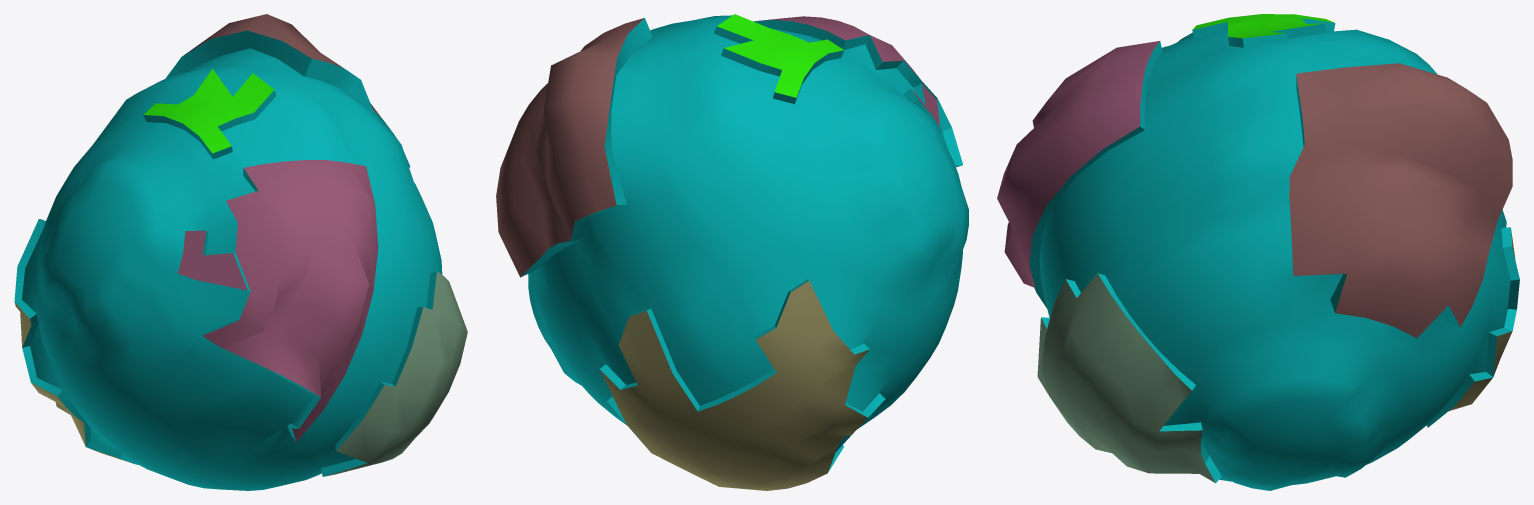
Rendered from WaterPlanet.fbx.
The picture shows the model from 3 angles, left to right: view 1: azimuth 30°, elevation 25°; view 2: azimuth 150°, elevation 25°; view 3: azimuth 270°, elevation 25°; orthographic projection. The views are drawn at different scales.
Visible parts, largest first — view 1: polySurface12, polySurface9, polySurface3, polySurface13, polySurface11, polySurface5, polySurface7; view 2: polySurface12, polySurface7, polySurface5, polySurface13, polySurface9; view 3: polySurface12, polySurface5, polySurface3, polySurface9, polySurface13, polySurface7.
Part boxes in pixels (box(x1,y1,x2,y2)): polySurface12: box(14, 30, 442, 490); polySurface9: box(202, 160, 378, 441); polySurface3: box(324, 271, 467, 476); polySurface13: box(144, 69, 274, 153); polySurface11: box(178, 230, 247, 290); polySurface5: box(183, 14, 382, 119); polySurface7: box(14, 302, 132, 463); polySurface12: box(520, 15, 968, 472); polySurface7: box(600, 280, 869, 490); polySurface5: box(496, 18, 643, 277); polySurface13: box(717, 14, 843, 97); polySurface9: box(755, 16, 919, 78); polySurface12: box(1029, 18, 1519, 490); polySurface5: box(1289, 63, 1512, 338); polySurface3: box(1037, 273, 1215, 482); polySurface9: box(997, 41, 1159, 291); polySurface13: box(1192, 14, 1334, 38); polySurface7: box(1449, 229, 1515, 410).
Bounding box in the file's own units: 12.53 × 12.69 × 13.53.
